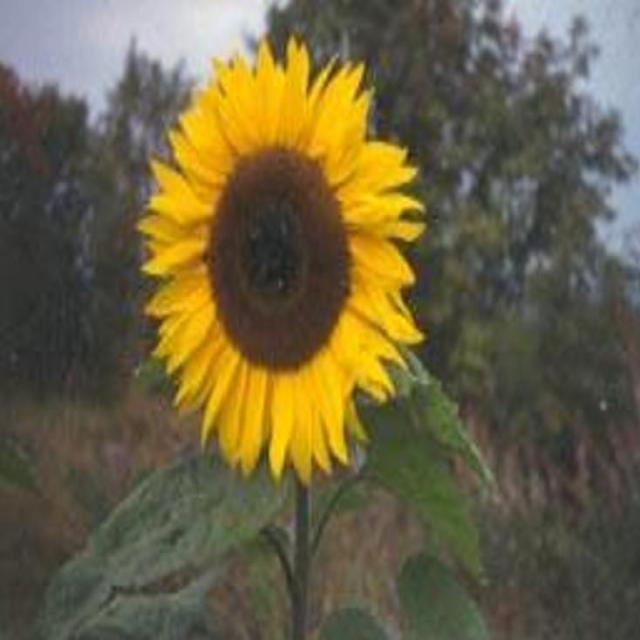sunflower: (131, 31, 430, 490)
